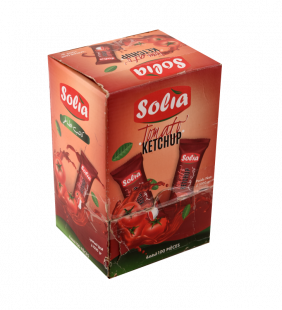SOLIA: (42, 25, 227, 284)
